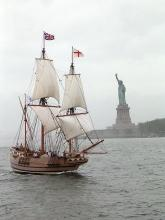fanchuan: (9, 29, 114, 178)
